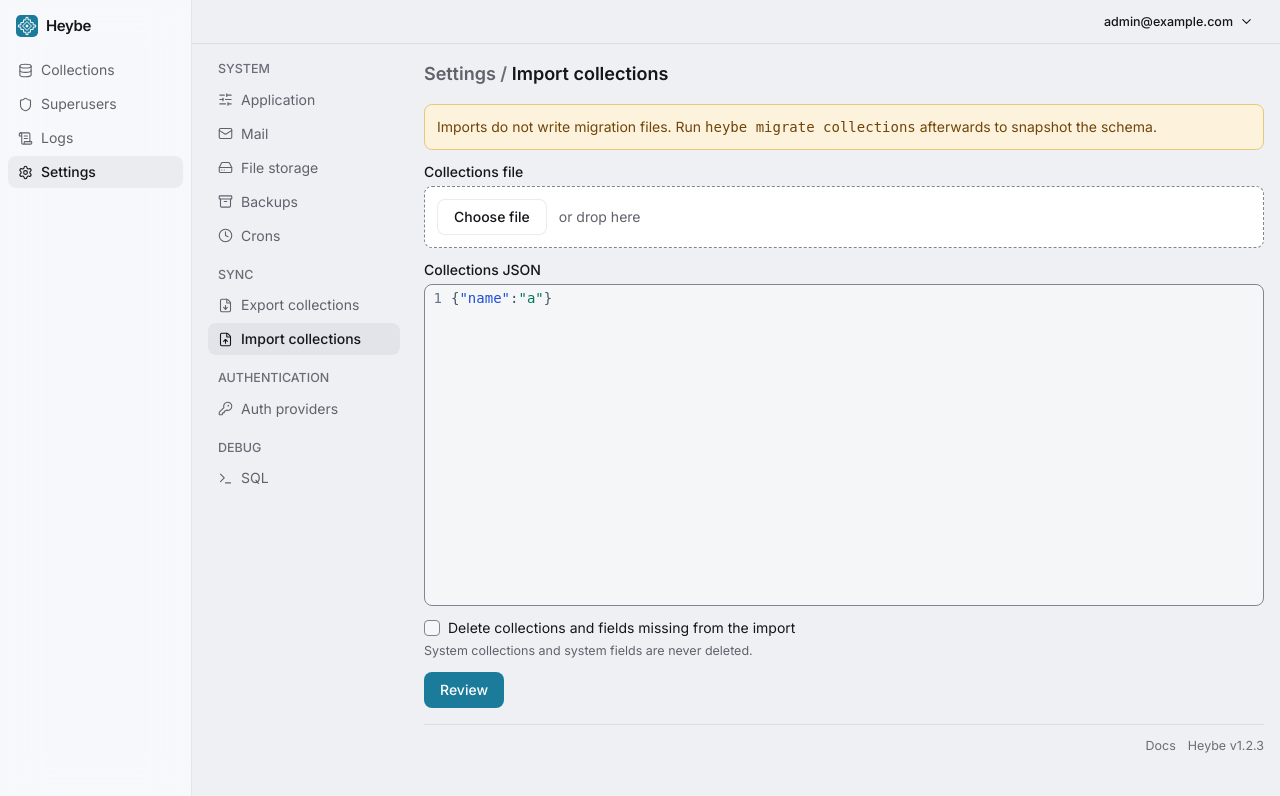
invalid JSON shows the parse error and no review
Check: the field named "Collections JSON" is shown, box [451, 290, 552, 306]
Click the button "Review". click: click(464, 690)
box: [424, 672, 504, 708]
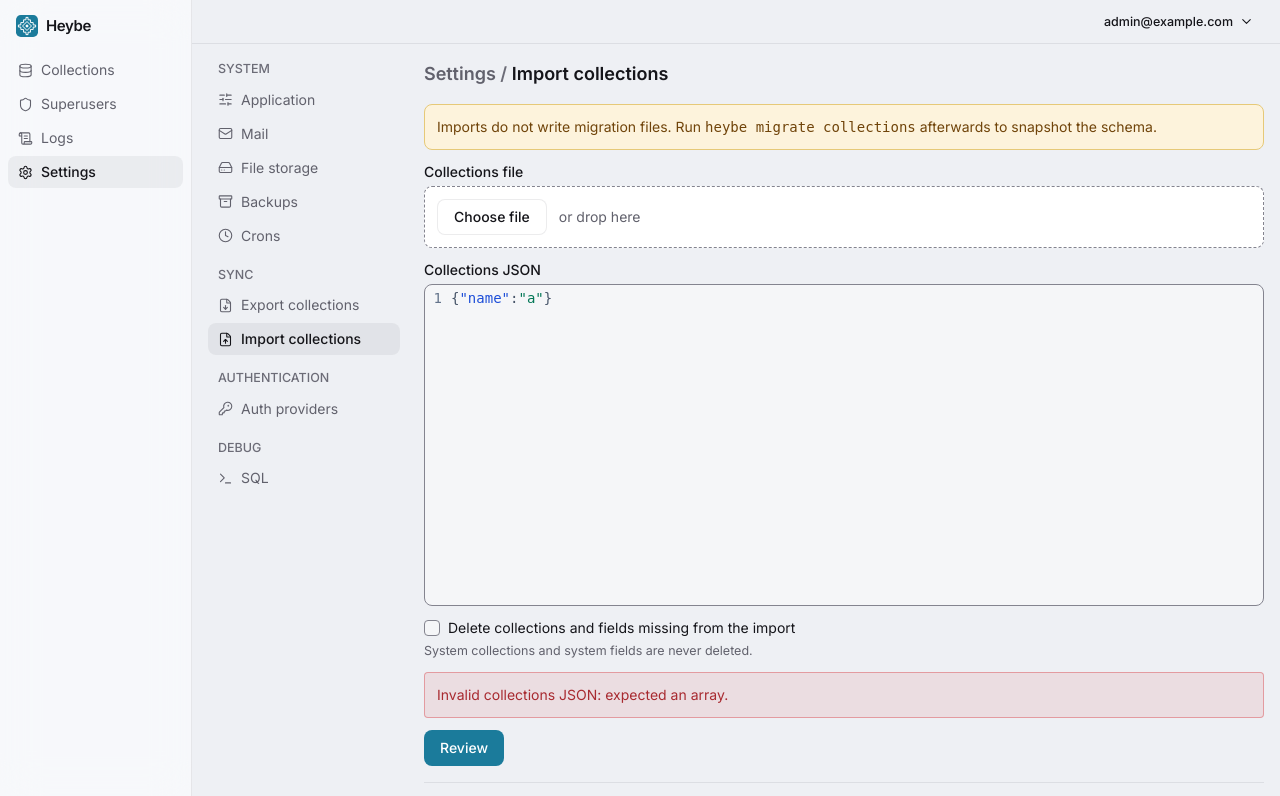
Check: the text "Invalid collections JSON: expected an array." is shown, box [437, 686, 728, 702]
